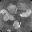people: (8, 3, 18, 14), (20, 9, 32, 18), (3, 13, 15, 21), (13, 20, 22, 29), (0, 8, 9, 15)
